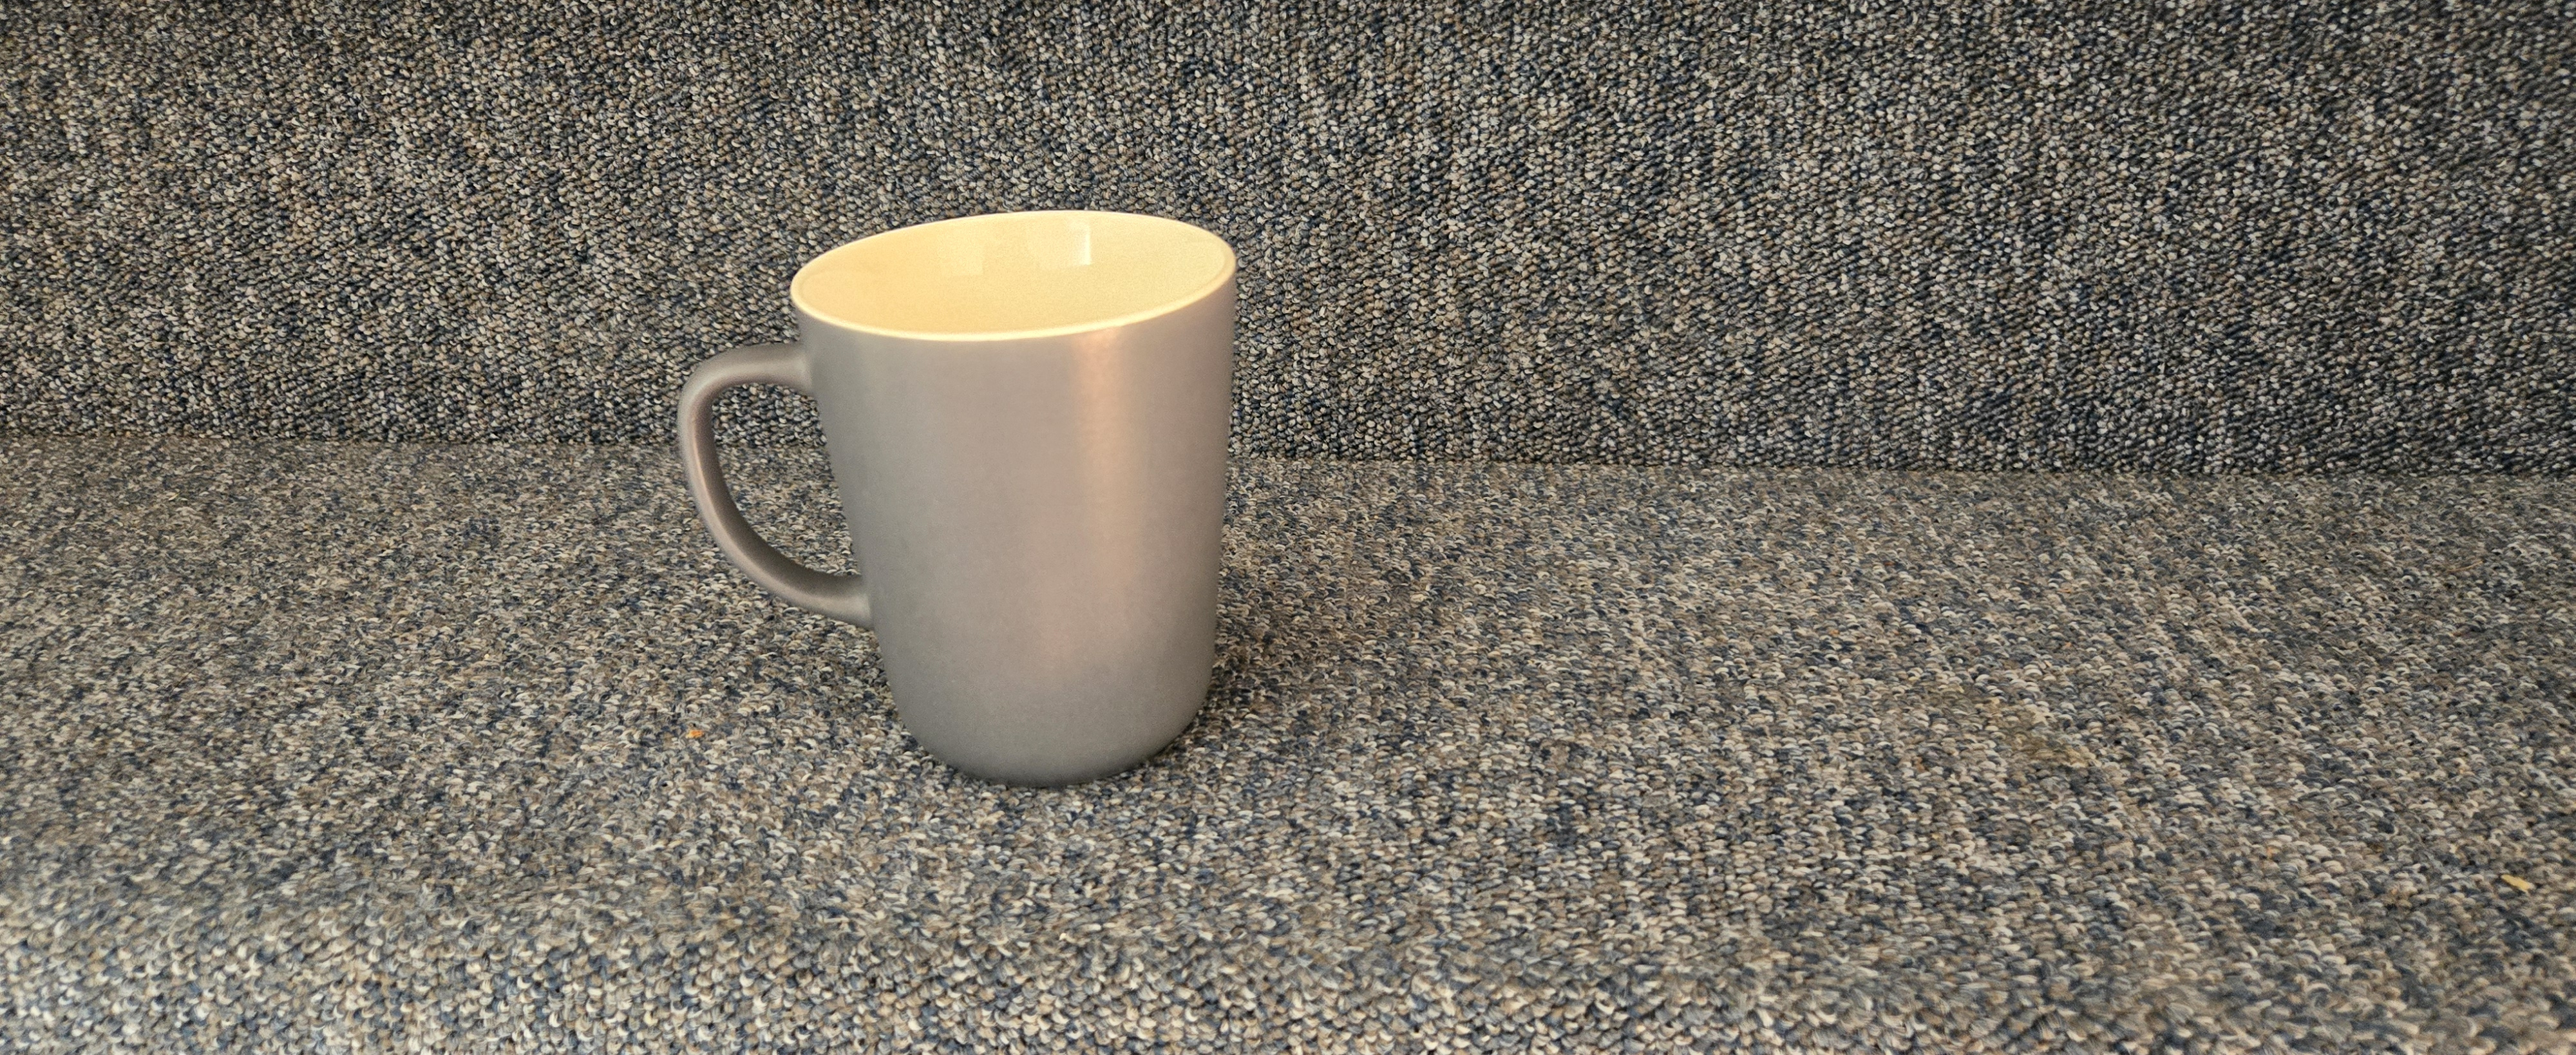mug: (595, 169, 1342, 815)
